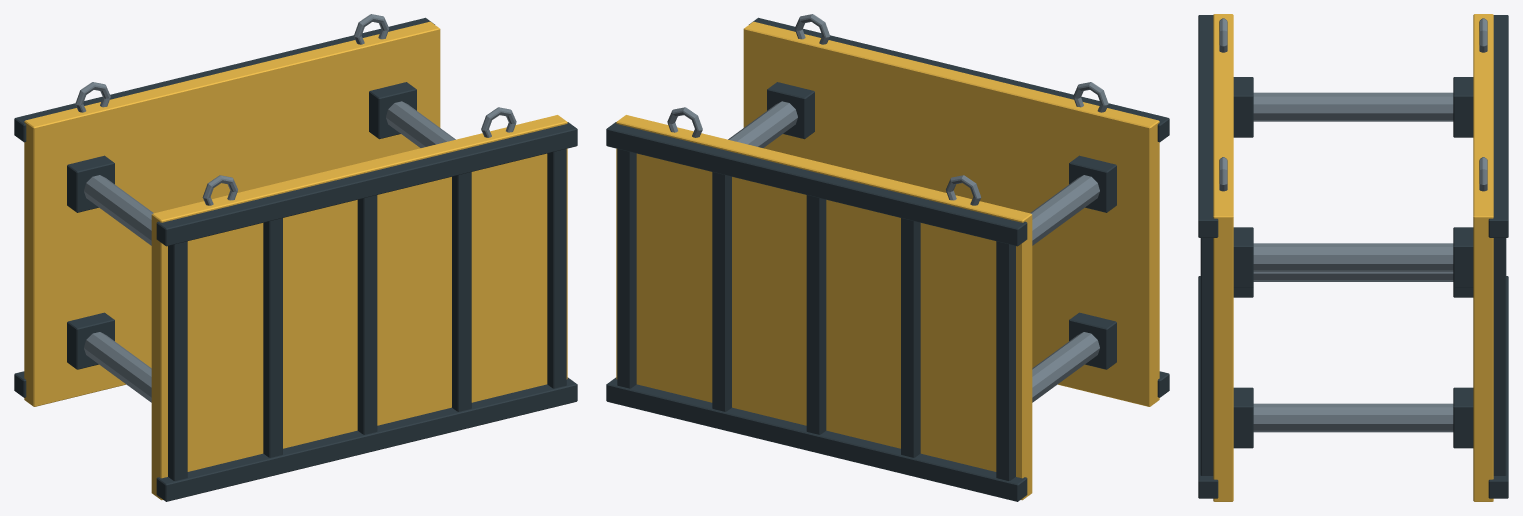
The model's file is b07_steel_trench_shoring_box.glb.
3 views of the same model, side by side, from view 1: azimuth 30°, elevation 25°; view 2: azimuth 150°, elevation 25°; view 3: azimuth 270°, elevation 25° (orthographic). The views are drawn at different scales.
Parts seen in each view (by area): view 1: b07_steel_trench_shoring_box; view 2: b07_steel_trench_shoring_box; view 3: b07_steel_trench_shoring_box.
Part boxes in pixels (bbox=[...]): b07_steel_trench_shoring_box: bbox=[14, 14, 577, 501]; b07_steel_trench_shoring_box: bbox=[606, 14, 1169, 501]; b07_steel_trench_shoring_box: bbox=[1198, 14, 1508, 501].
Size of the model in its own units: 3.85 by 2.73 by 2.46.
